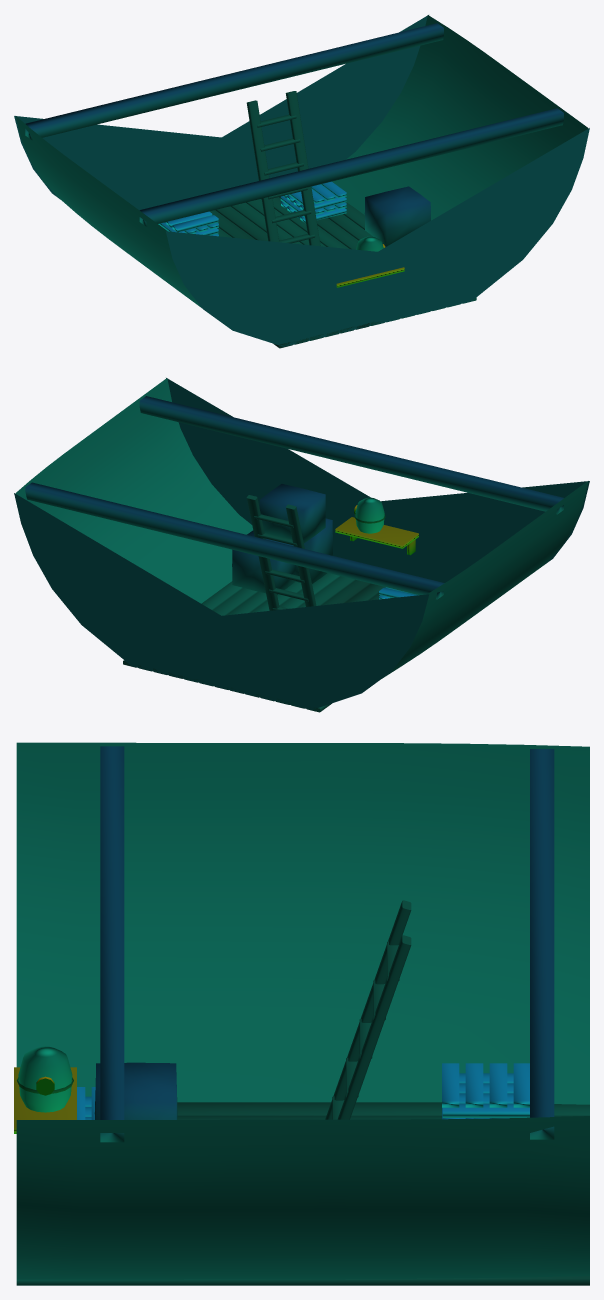
The model's file is terrace_hold.glb.
3 renders of one model, top to bottom at view 1: azimuth 30°, elevation 25°; view 2: azimuth 150°, elevation 25°; view 3: azimuth 270°, elevation 25°, orthographic. The views are drawn at different scales.
Parts seen in each view (by area): view 1: terrace_hold; view 2: terrace_hold; view 3: terrace_hold.
Part boxes in pixels (box(x1,y1,x2,y2)): terrace_hold: box(14, 15, 589, 348); terrace_hold: box(14, 378, 589, 712); terrace_hold: box(14, 742, 589, 1285).
Size of what is drawn, in the model's own units: 5.65 by 1.91 by 3.62.
